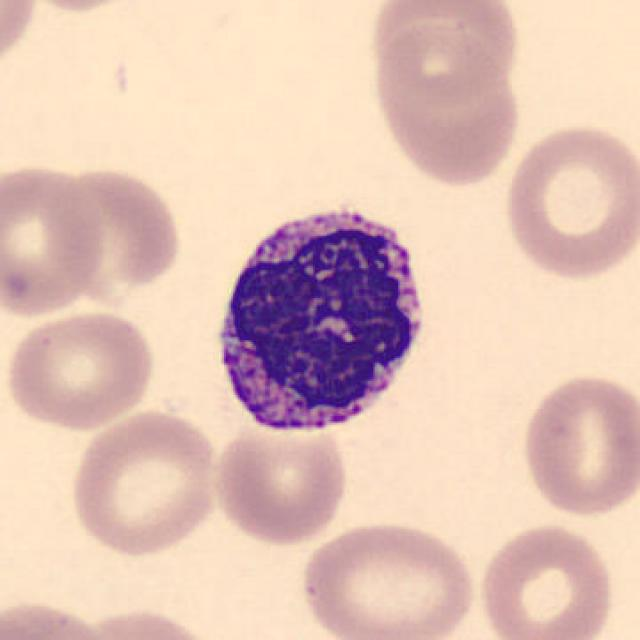Basophil: (199, 188, 441, 448)
RBC: (366, 21, 524, 191), (66, 405, 224, 559), (498, 118, 638, 284), (297, 516, 482, 640), (48, 160, 187, 308), (2, 306, 160, 434), (516, 368, 638, 522), (210, 418, 352, 548), (0, 160, 112, 321), (473, 518, 620, 640), (366, 0, 524, 104), (74, 604, 218, 640), (0, 596, 112, 640), (0, 0, 41, 79), (7, 0, 151, 14)
